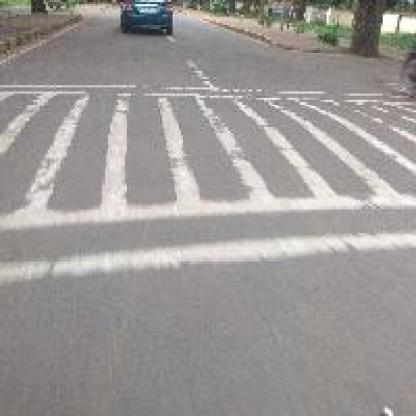Speed Bump: (0, 81, 412, 285)
